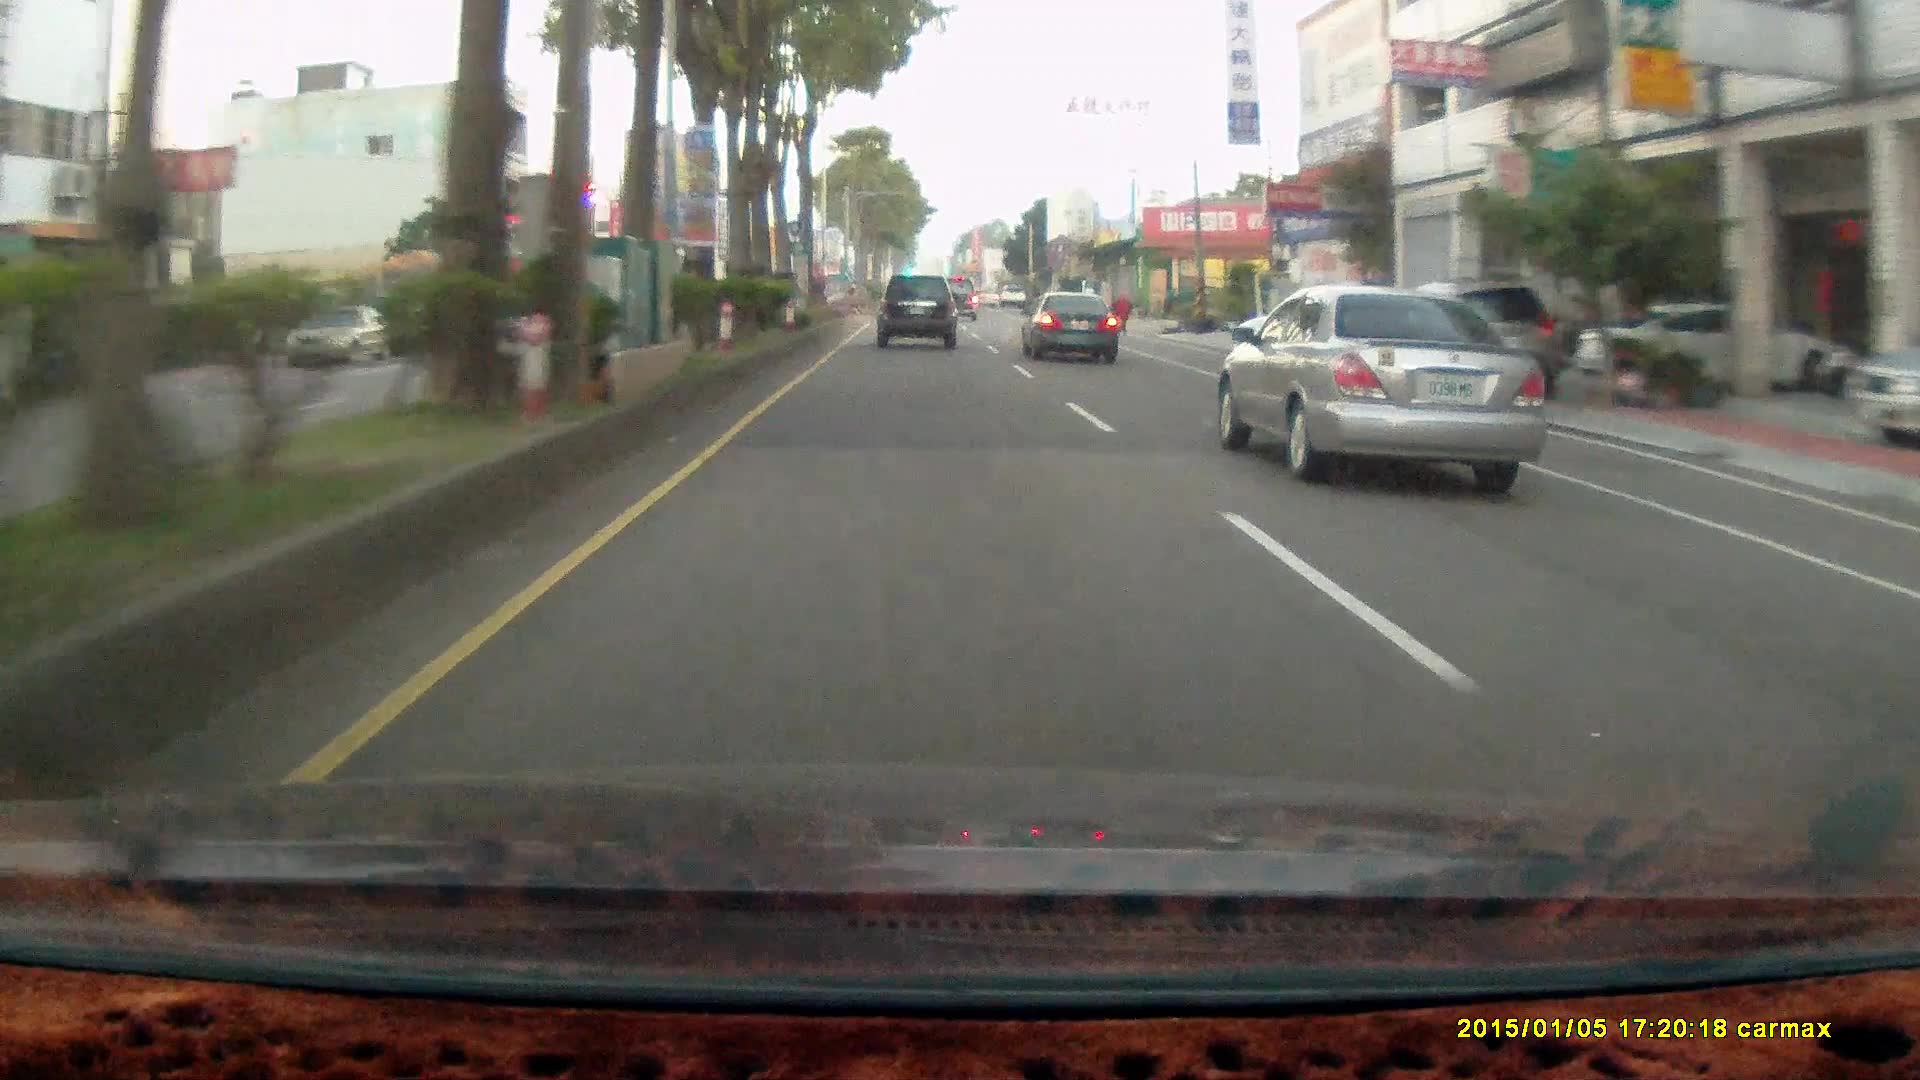pedestrian: (1113, 290, 1133, 335)
vehicle: (1218, 291, 1545, 481), (1564, 305, 1861, 393), (1354, 284, 1556, 410), (1381, 284, 1583, 409), (279, 302, 406, 373), (1020, 292, 1122, 369), (1019, 288, 1117, 363), (283, 304, 397, 368), (874, 274, 961, 354), (875, 276, 956, 351), (937, 280, 979, 325)
